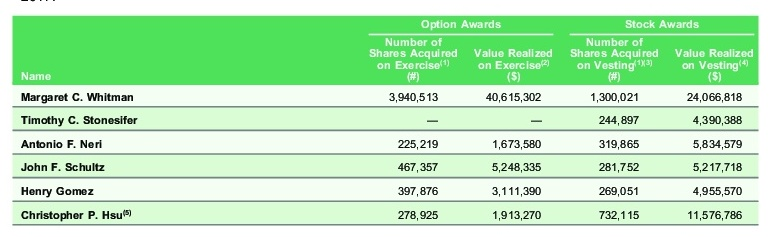table: (0, 0, 770, 237)
